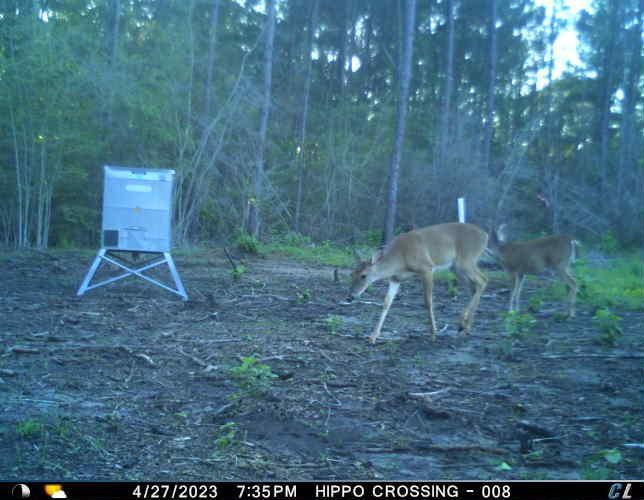Deer: (343, 218, 491, 350), (489, 218, 586, 321)
